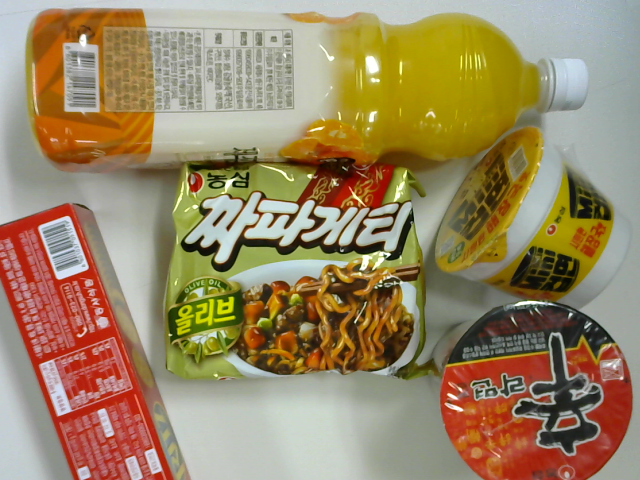Hejangmini: (429, 130, 637, 304)
Jeju_Tangerine_1.5L: (27, 6, 601, 166)
Olive_Chapaghetti: (155, 160, 441, 394)
Ritz_Cracker: (1, 200, 193, 480)
Sinramen_small: (439, 304, 637, 480)
